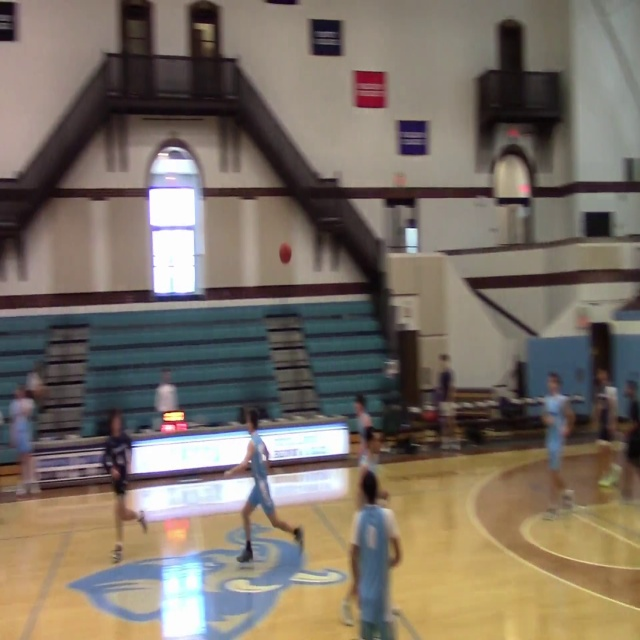Basketball: (279, 242, 292, 263)
